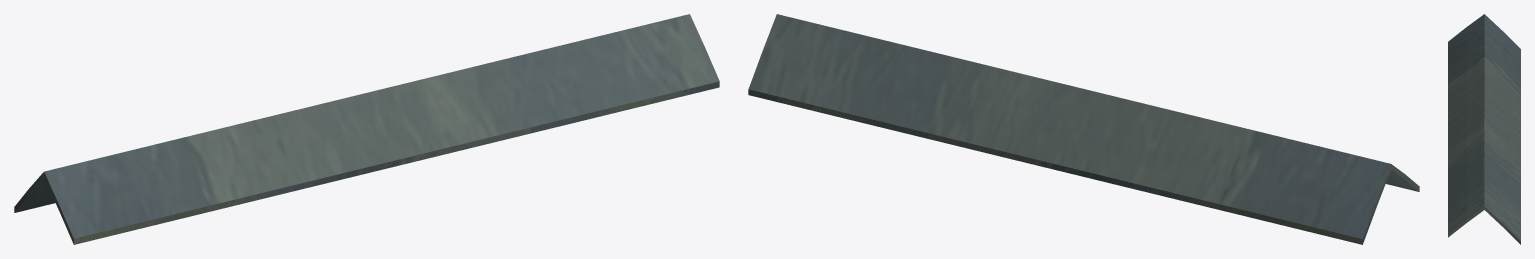
File: CM_SlateRoofKit01_Ridge2m_Wing.fbx
3 renders of one model, left to right at view 1: azimuth 30°, elevation 25°; view 2: azimuth 150°, elevation 25°; view 3: azimuth 270°, elevation 25°, orthographic. The views are drawn at different scales.
Parts seen in each view (by area): view 1: CM_SlateRoofKit01_Ridge2m_Wing_Slate; view 2: CM_SlateRoofKit01_Ridge2m_Wing_Slate; view 3: CM_SlateRoofKit01_Ridge2m_Wing_Slate.
Part boxes in pixels (left/top/right/bottom): CM_SlateRoofKit01_Ridge2m_Wing_Slate: left=14, top=14, right=719, bottom=244; CM_SlateRoofKit01_Ridge2m_Wing_Slate: left=748, top=14, right=1419, bottom=244; CM_SlateRoofKit01_Ridge2m_Wing_Slate: left=1448, top=14, right=1520, bottom=244.
Bounding box in the file's own units: 2 × 0.1877 × 0.32.
